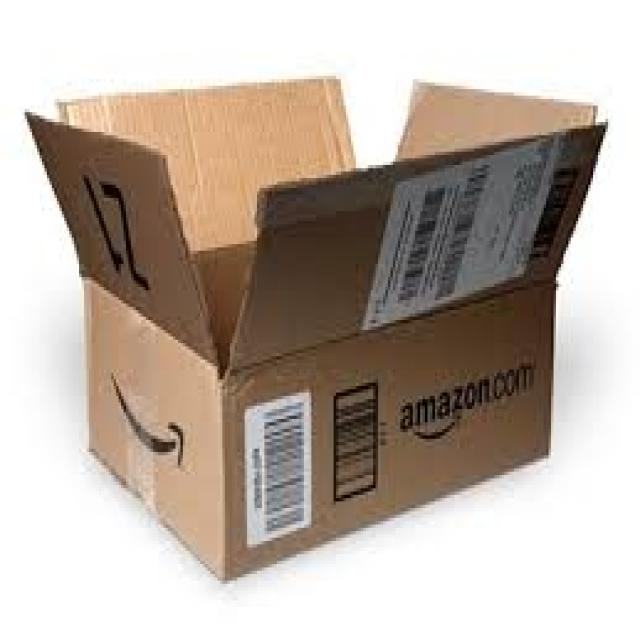box: (24, 74, 610, 584)
opened: (25, 74, 611, 373)
